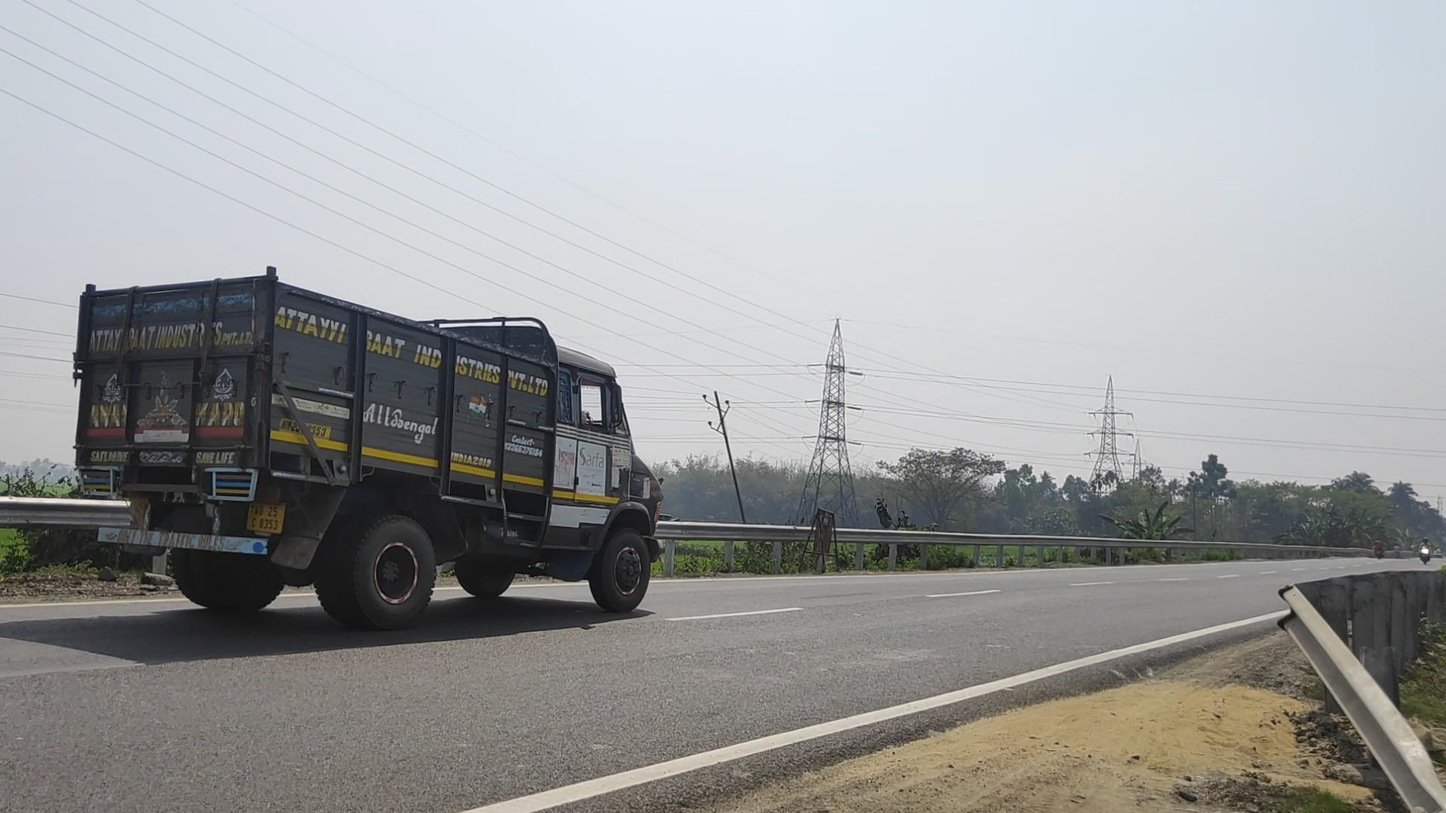truck: (72, 266, 665, 629)
